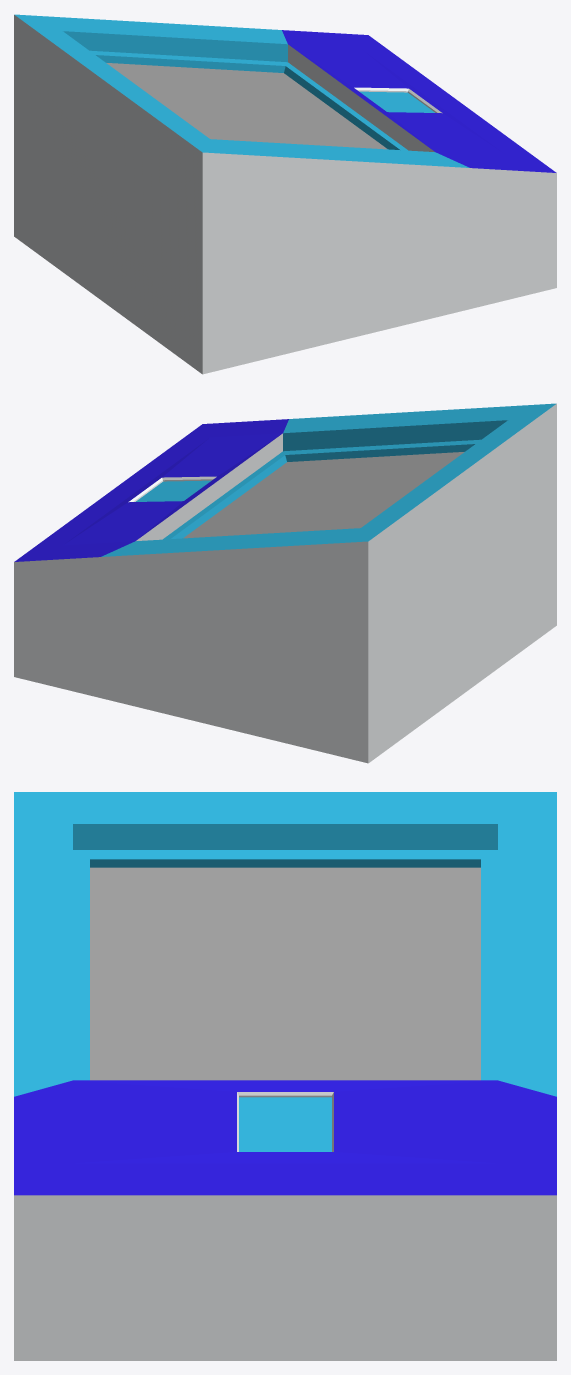
File: Tensimeter.fbx
3 renders of one model, top to bottom at view 1: azimuth 30°, elevation 25°; view 2: azimuth 150°, elevation 25°; view 3: azimuth 270°, elevation 25°, orthographic. The views are drawn at different scales.
Parts seen in each view (by area): view 1: Cube; view 2: Cube; view 3: Cube.
Boxes of the visible parts, box(x1,y1,x2,y2) form: Cube: box(14, 14, 556, 374); Cube: box(14, 403, 556, 763); Cube: box(14, 792, 556, 1360).
Size of the model in its own units: 531 by 318 by 489.
